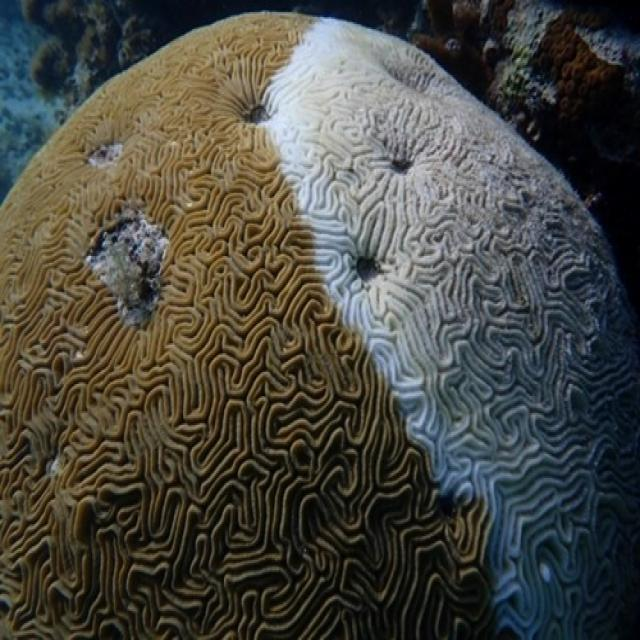Coral: (0, 9, 640, 639), (487, 0, 640, 342)
